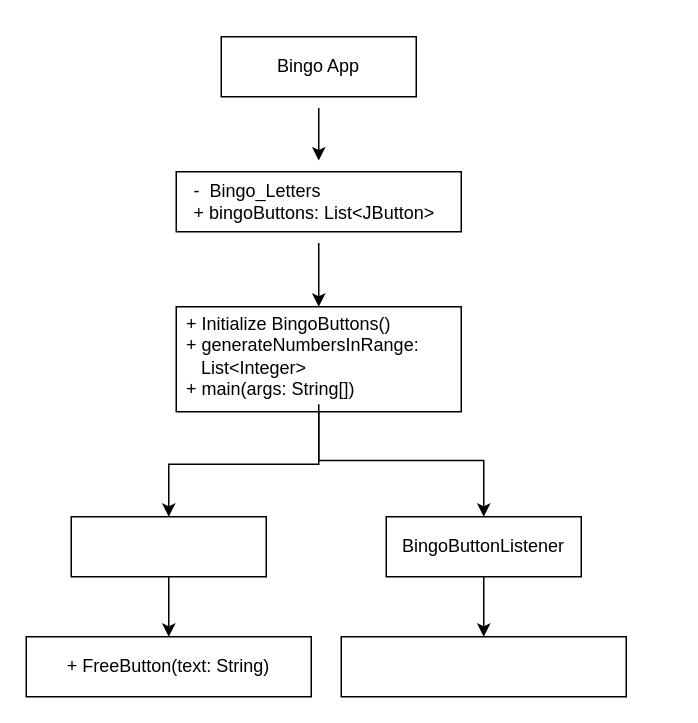
Image size: 698x723. Some labels were removed from this diagram. Each missing label, with the box of its shape:
+ actionPerformed (e: ActionEvent): void: (340, 635, 626, 697)
Free Button: (70, 515, 266, 577)
